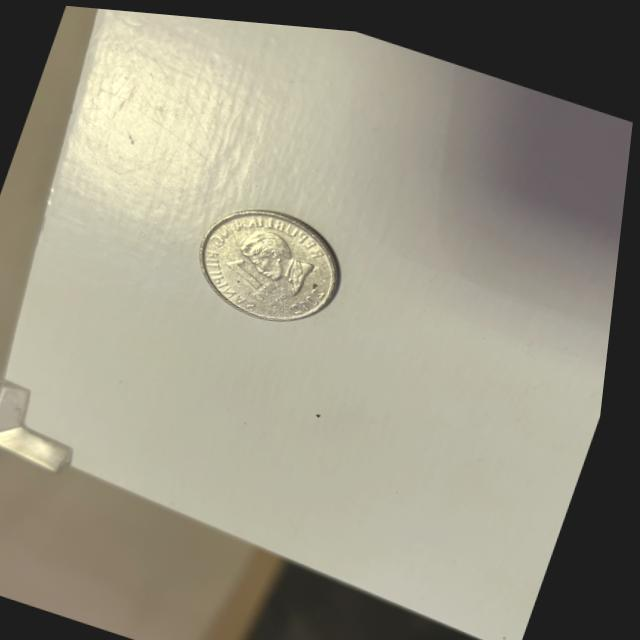1_Old_Front: (217, 242, 300, 295)
